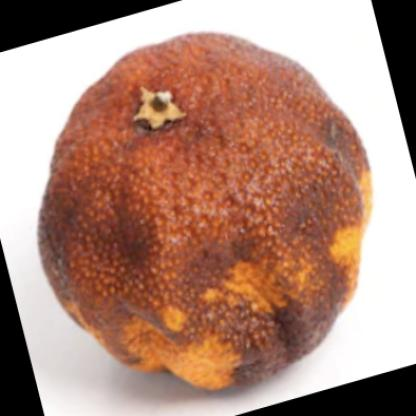rotten: (41, 33, 373, 392)
